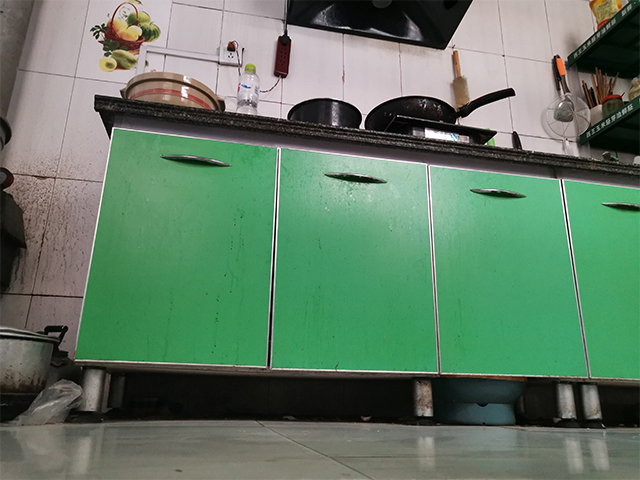cabinet: (69, 93, 640, 430)
